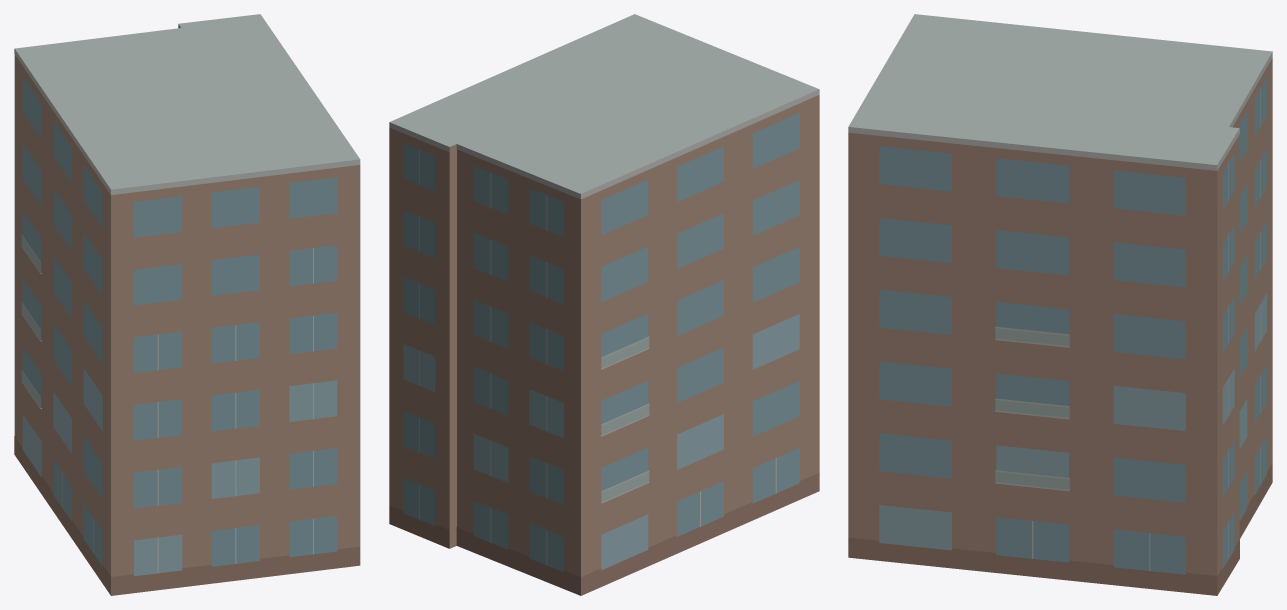
The model's file is survey-upis-33020781.glb.
3 views of the same model, side by side, from view 1: azimuth 30°, elevation 25°; view 2: azimuth 150°, elevation 25°; view 3: azimuth 270°, elevation 25° (orthographic). The views are drawn at different scales.
Parts seen in each view (by area): view 1: survey-upis-33020781.tmp; view 2: survey-upis-33020781.tmp; view 3: survey-upis-33020781.tmp.
Boxes of the visible parts, x1,y1,x2,y2 form: survey-upis-33020781.tmp: (14,14,360,595); survey-upis-33020781.tmp: (389,14,819,595); survey-upis-33020781.tmp: (848,14,1272,595).
Size of the model in its own units: 13.79 by 18.3 by 16.35.
